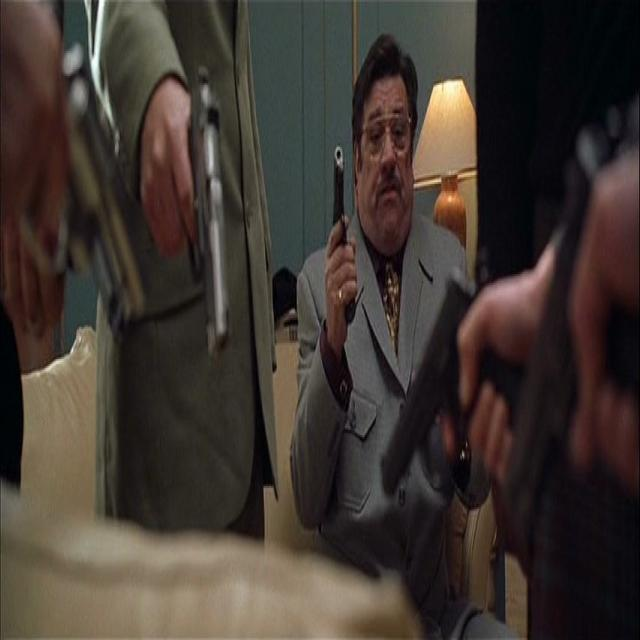gun-knife-thesis - v11 Yolov5 augmented: (503, 120, 626, 596), (3, 20, 155, 347), (373, 245, 509, 551), (155, 59, 245, 372), (292, 133, 361, 338)
